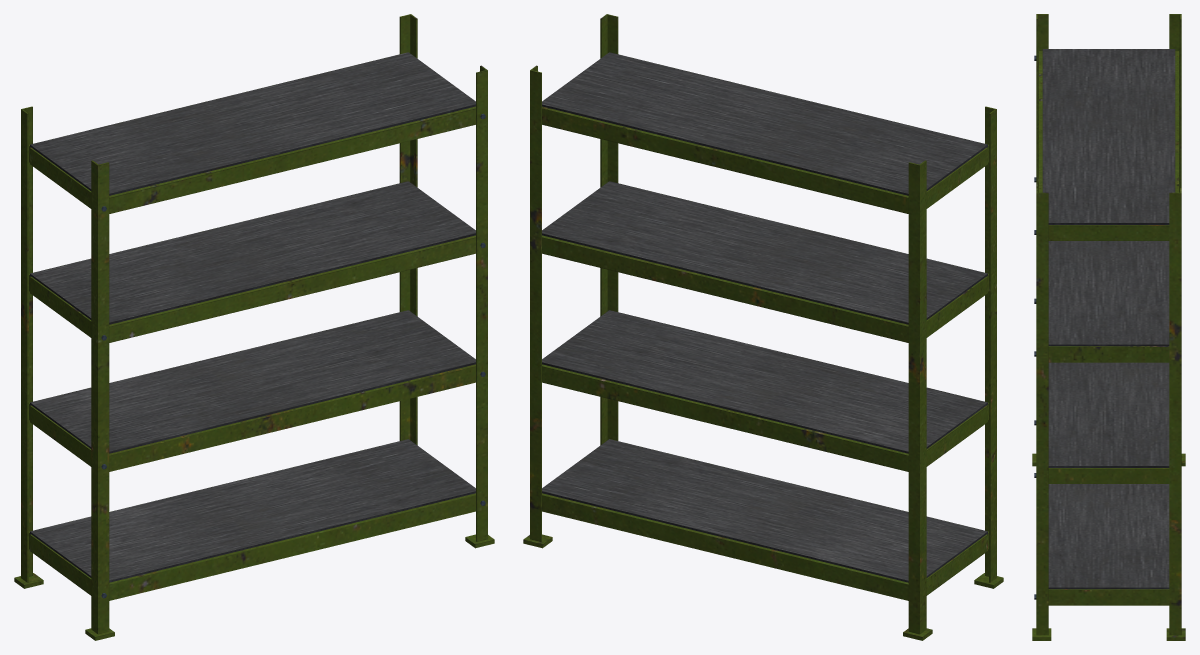
The model's file is Lab_Rack.fbx.
The picture shows the model from 3 angles, left to right: view 1: azimuth 30°, elevation 25°; view 2: azimuth 150°, elevation 25°; view 3: azimuth 270°, elevation 25°; orthographic projection. The views are drawn at different scales.
Parts seen in each view (by area): view 1: Lab_Rack; view 2: Lab_Rack; view 3: Lab_Rack.
Part boxes in pixels (x1,y1,x2,y2): Lab_Rack: (14,14,494,640); Lab_Rack: (523,14,1003,640); Lab_Rack: (1032,14,1185,640).
Bounding box in the file's own units: 1.69 × 1.91 × 0.5946.
